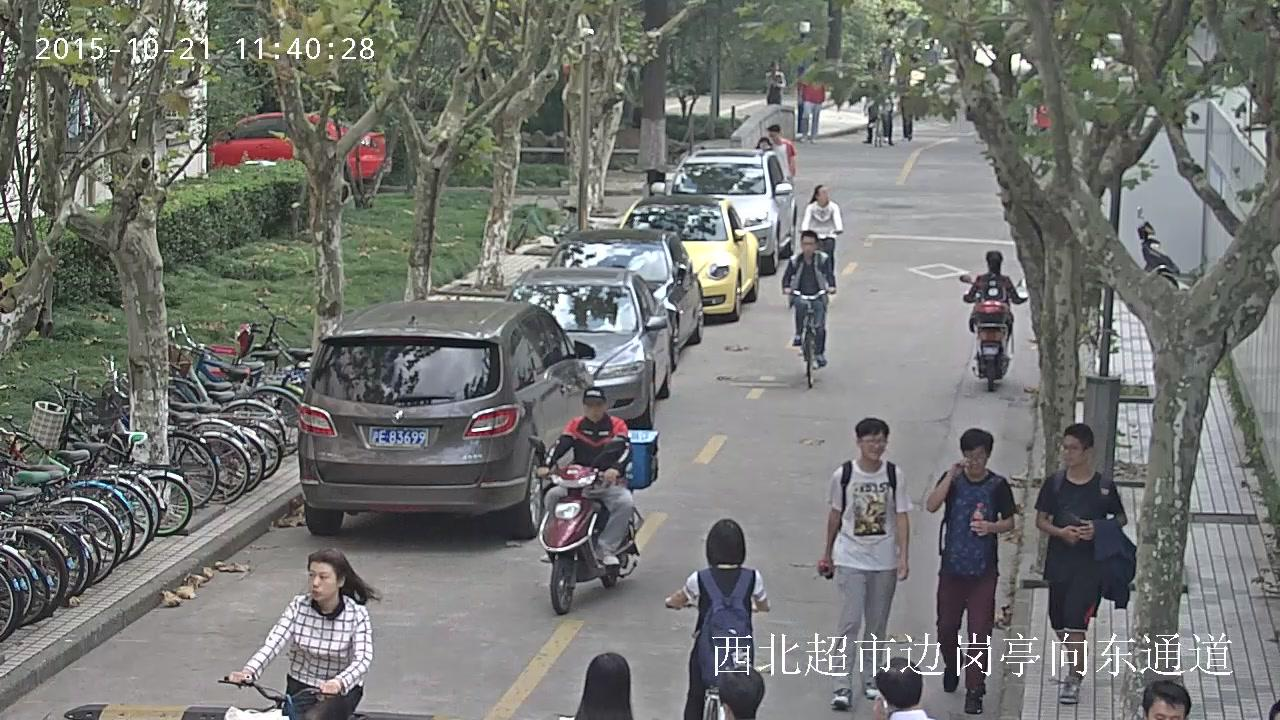face: (308, 561, 336, 599), (1147, 697, 1185, 720), (1063, 435, 1087, 465), (861, 432, 885, 459), (963, 447, 985, 474), (585, 401, 604, 421), (801, 236, 815, 253), (818, 187, 827, 204), (768, 130, 778, 143), (759, 140, 767, 149), (774, 63, 778, 69), (930, 42, 933, 47), (884, 40, 887, 44)
